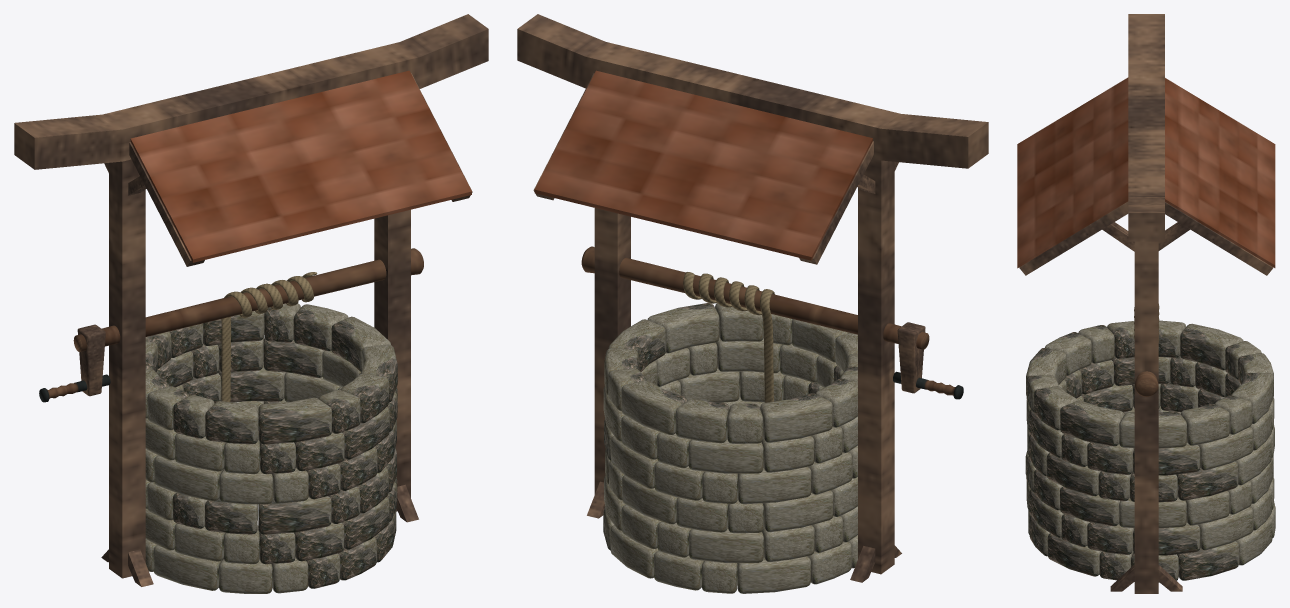
Rendered from well.fbx.
3 renders of one model, left to right at view 1: azimuth 30°, elevation 25°; view 2: azimuth 150°, elevation 25°; view 3: azimuth 270°, elevation 25°, orthographic. The views are drawn at different scales.
Visible parts, largest first — view 1: Well; view 2: Well; view 3: Well.
Part boxes in pixels (x1,y1,x2,y2): Well: (14, 14, 488, 593); Well: (517, 14, 988, 593); Well: (1017, 14, 1275, 593).
Size of the model in its own units: 2.25 by 2.2 by 1.24.
